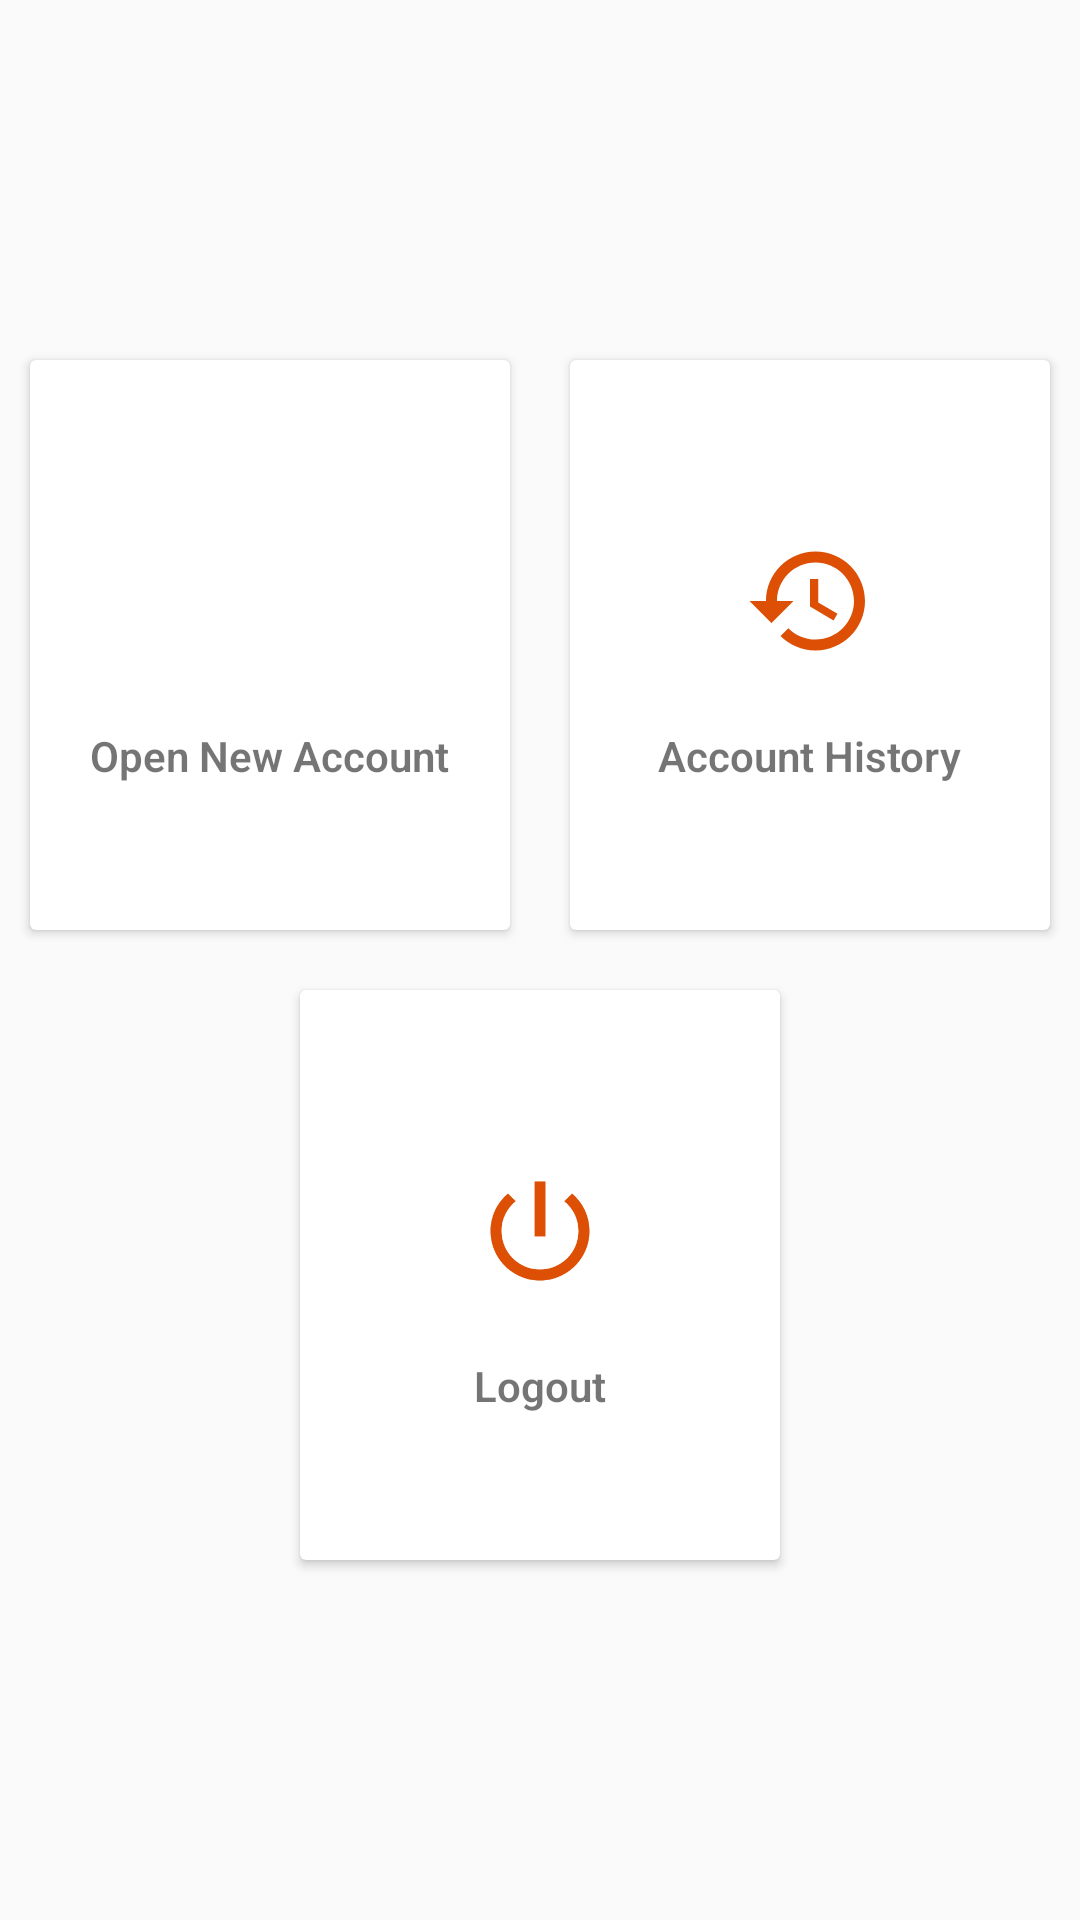

Icons on this 1080px×1920px Android screen, each with the point to tap as point (x, y):
power settings: point (540, 1231)
